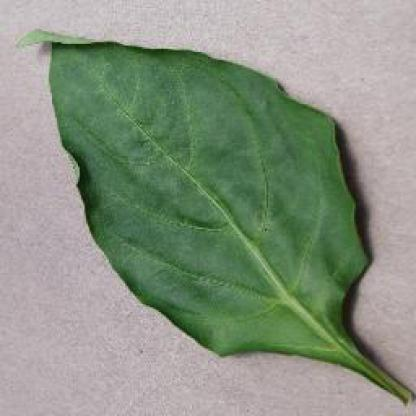good leaf: (44, 33, 370, 402)
